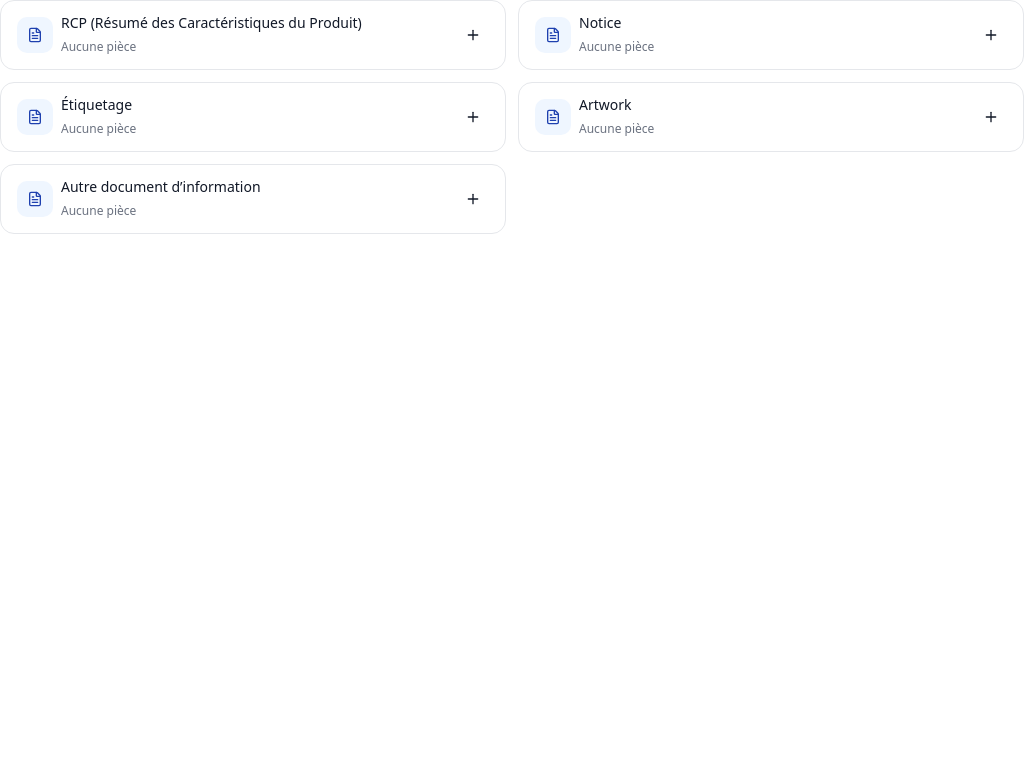
Test case: DocTypeCards — « Depuis la base » (§2, pioche org → produit) › avec des sources, « + » propose les DEUX chemins ; la pioche crée un brouillon avec provenance
This screenshot has width=1024, height=768.
« + » de la carte RCP (1re carte info) → menu à deux chemins.
Click the 1st button named "Ajouter" at {"x": 473, "y": 35}, box [457,19,489,51]
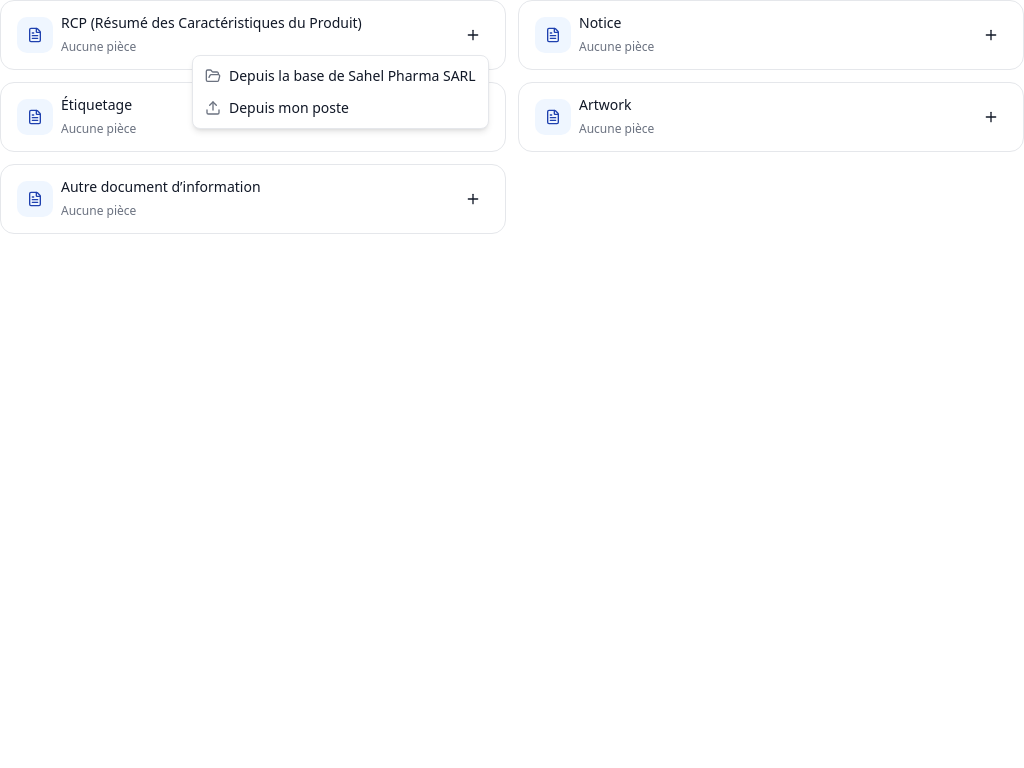
Expected: the menu item "Depuis la base de Sahel Pharma SARL" is shown
Expected: the menu item "Depuis mon poste" is shown, [205,98,349,117]
Pioche → picker → choisir la pièce.
Click the menu item "Depuis la base de Sahel Pharma SARL" at {"x": 340, "y": 76}, box [205,66,476,85]
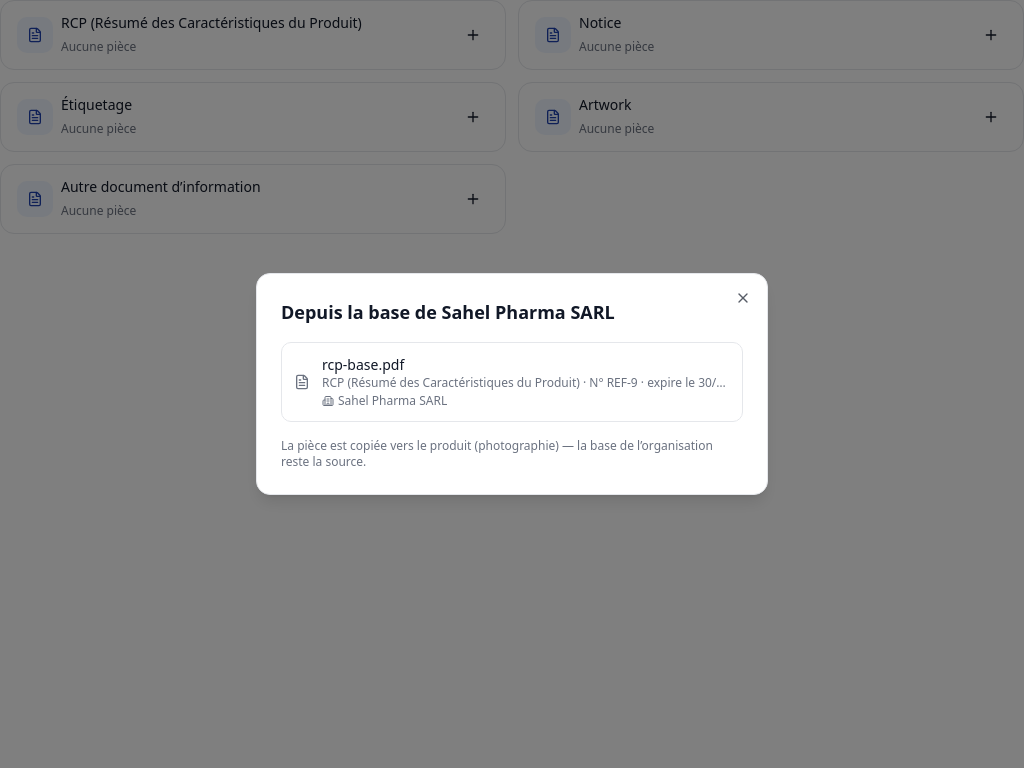
Click the button "rcp-base.pdf" at {"x": 512, "y": 382}, box [282,343,742,421]
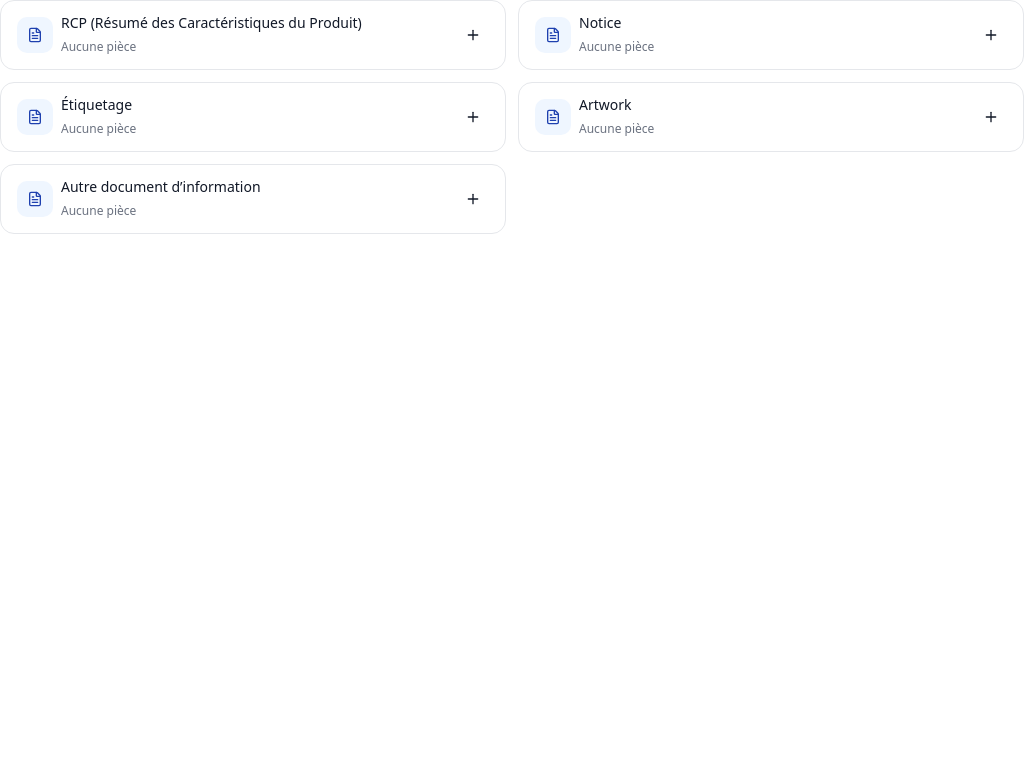
Expected: the dialog is gone
